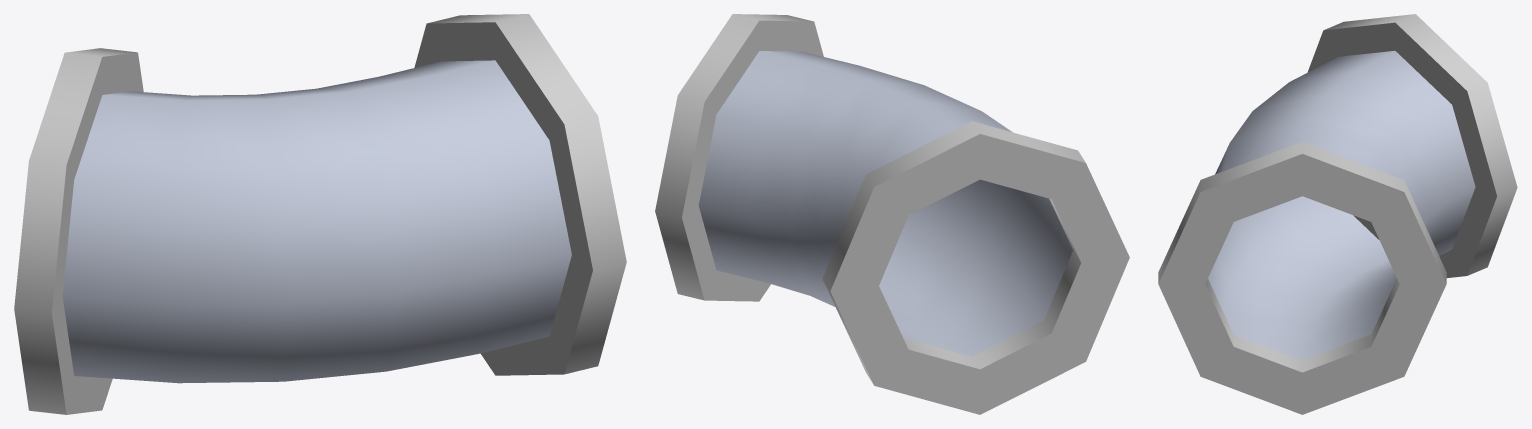
The model's file is pipe-glass-large-curve.obj.
The picture shows the model from 3 angles, left to right: view 1: azimuth 30°, elevation 25°; view 2: azimuth 150°, elevation 25°; view 3: azimuth 270°, elevation 25°; orthographic projection. The views are drawn at different scales.
Parts seen in each view (by area): view 1: pipe-glass-large-curve; view 2: pipe-glass-large-curve; view 3: pipe-glass-large-curve.
Part boxes in pixels (left/top/right/bottom): pipe-glass-large-curve: left=14, top=14, right=626, bottom=414; pipe-glass-large-curve: left=655, top=14, right=1129, bottom=414; pipe-glass-large-curve: left=1158, top=14, right=1517, bottom=414.
Size of the model in its own units: 1.5 by 1 by 1.25.
